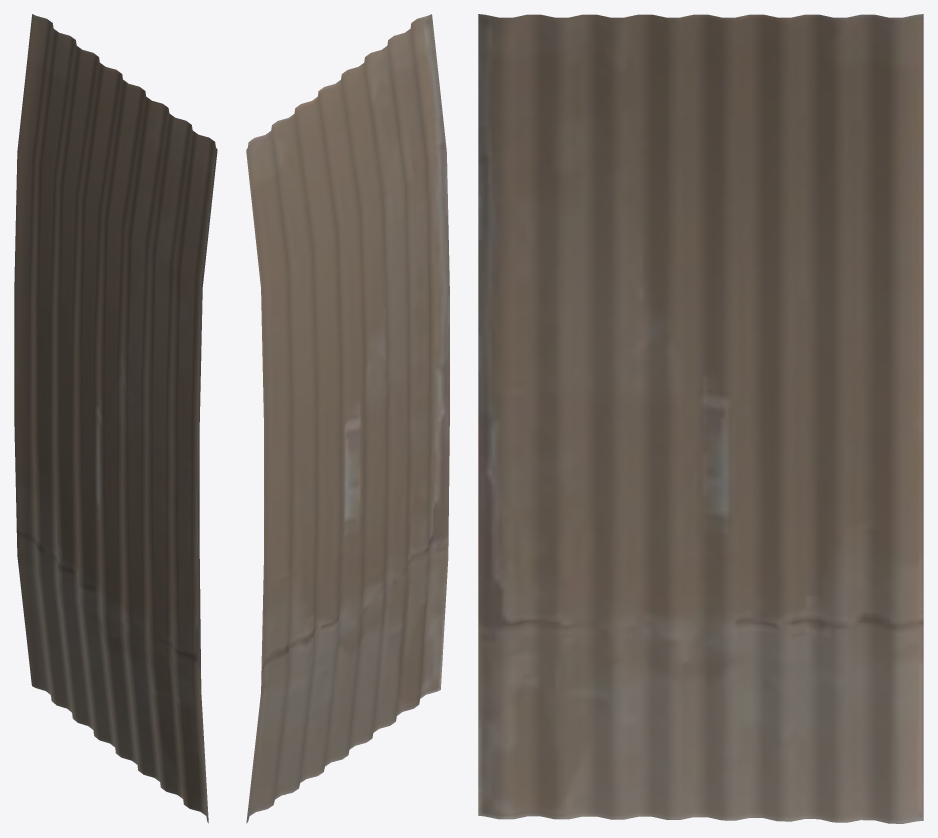
The picture shows the model from 3 angles, left to right: view 1: azimuth 30°, elevation 25°; view 2: azimuth 150°, elevation 25°; view 3: azimuth 270°, elevation 25°; orthographic projection. The views are drawn at different scales.
Parts seen in each view (by area): view 1: body0_model0_lod0_mesh0; view 2: body0_model0_lod0_mesh0; view 3: body0_model0_lod0_mesh0.
Part boxes in pixels (x1,y1,x2,y2): body0_model0_lod0_mesh0: (14,14,217,823); body0_model0_lod0_mesh0: (246,14,449,823); body0_model0_lod0_mesh0: (478,14,923,823).
Bounding box in the file's own units: 5.7 × 128 × 64.01.
1 material, 1 textured.
